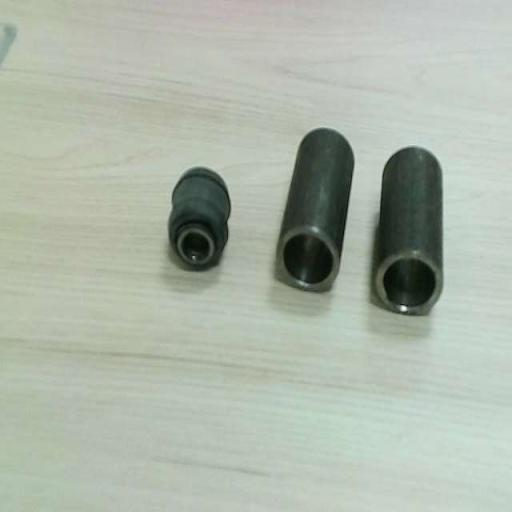peca: (276, 128, 354, 291), (374, 146, 442, 315), (168, 167, 230, 270)
